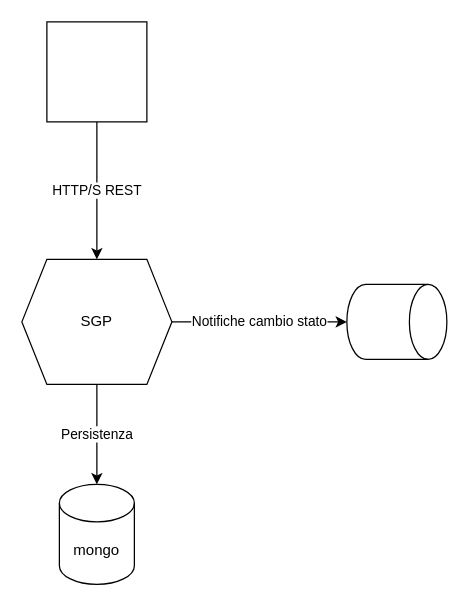
Image size: 469x606. Some labels were removed from this diagram. The centre of each missing label's shape, as x and y in pixels:
KAFKA: the point at 396,321
Sistema esterno: the point at 96,71
